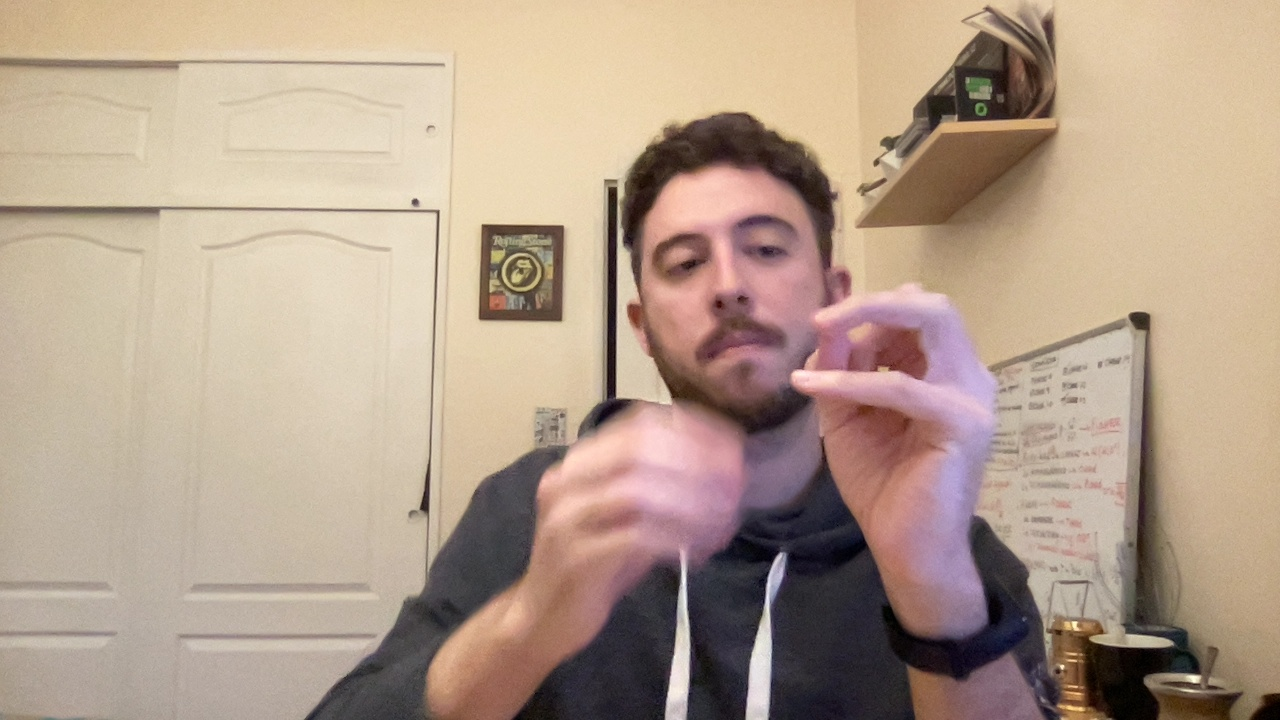cerrado: (776, 274, 1020, 515)
